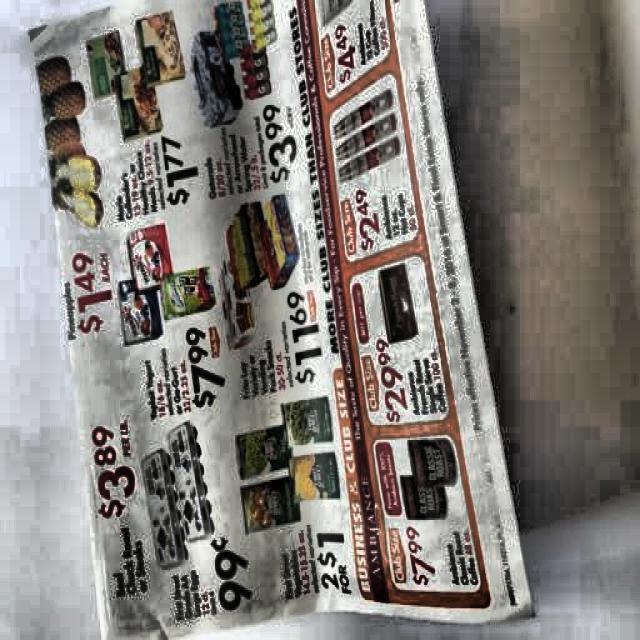paper: (22, 0, 540, 640)
